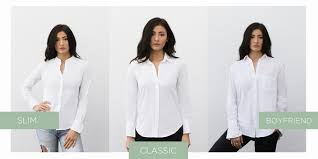C_shirt: (121, 53, 196, 131), (225, 51, 289, 138), (20, 57, 95, 129)
